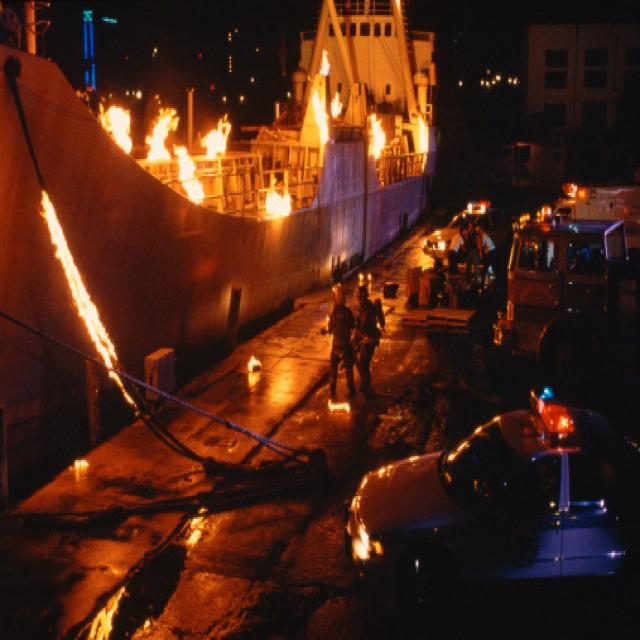Car: (362, 408, 640, 618)
